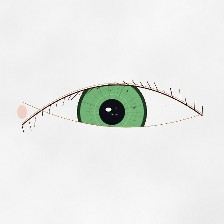pinguecula_lesion: (32, 106, 66, 134)
